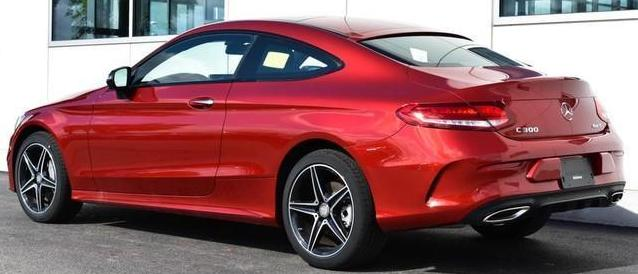C300Coupe: (4, 16, 629, 269)
